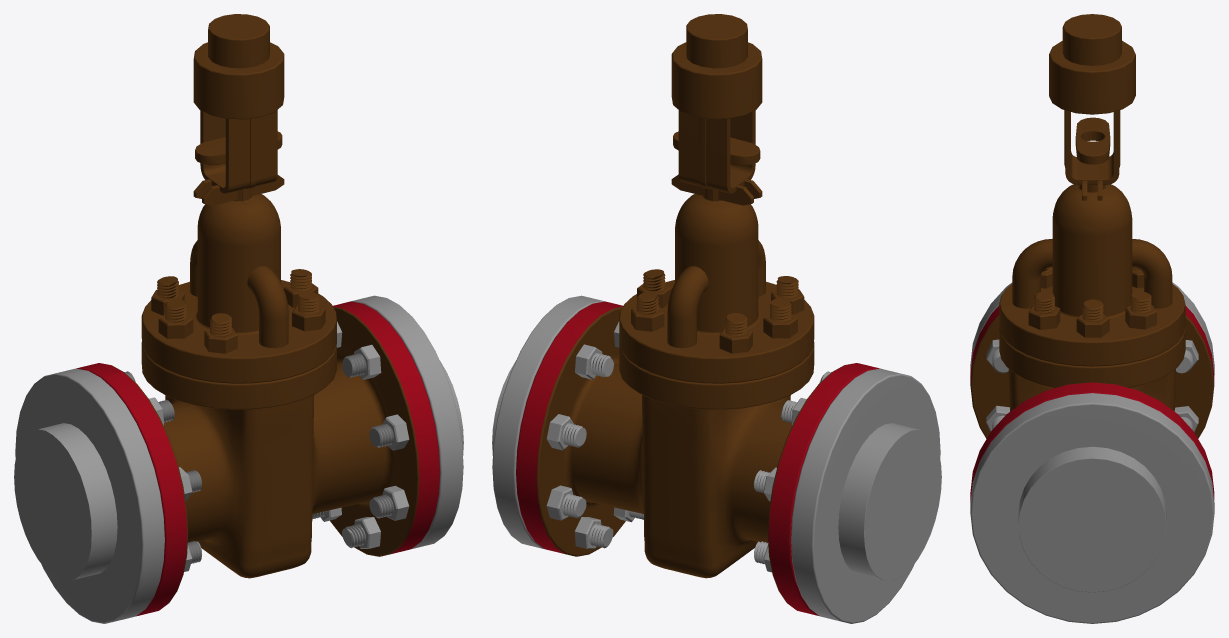
File: Valve.glb
The picture shows the model from 3 angles, left to right: view 1: azimuth 30°, elevation 25°; view 2: azimuth 150°, elevation 25°; view 3: azimuth 270°, elevation 25°; orthographic projection. The views are drawn at different scales.
Parts seen in each view (by area): view 1: Base, DiskTop, Disk2, Disk1.001, DiskTopScrew, BaseD1Screw.001, BaseD1Screw; view 2: Base, DiskTop, Disk2, Disk1.001, DiskTopScrew, BaseD1Screw.001, BaseD1Screw; view 3: Disk1.001, DiskTop, Base, DiskTopScrew, BaseD1Screw, Disk2.
Part boxes in pixels (bbox=[...]): Base: bbox=[76, 301, 439, 616]; DiskTop: bbox=[141, 14, 336, 383]; Disk2: bbox=[14, 368, 164, 623]; Disk1.001: bbox=[346, 295, 463, 549]; DiskTopScrew: bbox=[151, 269, 325, 353]; BaseD1Screw.001: bbox=[312, 321, 409, 548]; BaseD1Screw: bbox=[124, 371, 201, 571]; Base: bbox=[516, 301, 879, 615]; DiskTop: bbox=[619, 14, 814, 383]; Disk2: bbox=[791, 368, 941, 623]; Disk1.001: bbox=[492, 295, 605, 549]; DiskTopScrew: bbox=[631, 269, 804, 353]; BaseD1Screw.001: bbox=[546, 321, 643, 548]; BaseD1Screw: bbox=[753, 371, 831, 572]; Disk1.001: bbox=[970, 393, 1214, 623]; DiskTop: bbox=[999, 14, 1185, 366]; Base: bbox=[970, 305, 1214, 502]; DiskTopScrew: bbox=[1028, 267, 1156, 337]; BaseD1Screw: bbox=[986, 339, 1198, 431]; Disk2: bbox=[970, 282, 1214, 374].
Size of the model in its own units: 0.4645 by 0.6549 by 0.2769.
